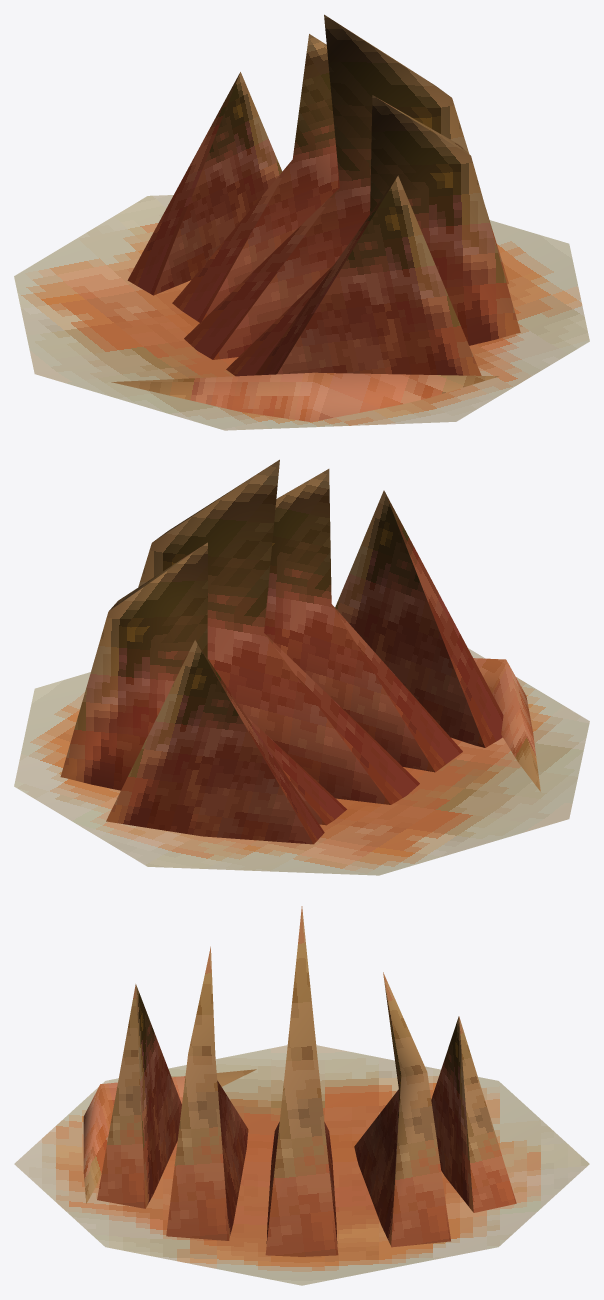
Rendered from edb_dish_bivoli_tempari_l2.fbx.
3 renders of one model, top to bottom at view 1: azimuth 30°, elevation 25°; view 2: azimuth 150°, elevation 25°; view 3: azimuth 270°, elevation 25°, orthographic. The views are drawn at different scales.
Visible parts, largest first — view 1: mesh_node; view 2: mesh_node; view 3: mesh_node.
Part boxes in pixels (x1,y1,x2,y2): mesh_node: (14, 14, 589, 430); mesh_node: (14, 459, 589, 875); mesh_node: (14, 906, 589, 1285).
Size of the model in its own units: 0.626 by 0.3689 by 0.626.
